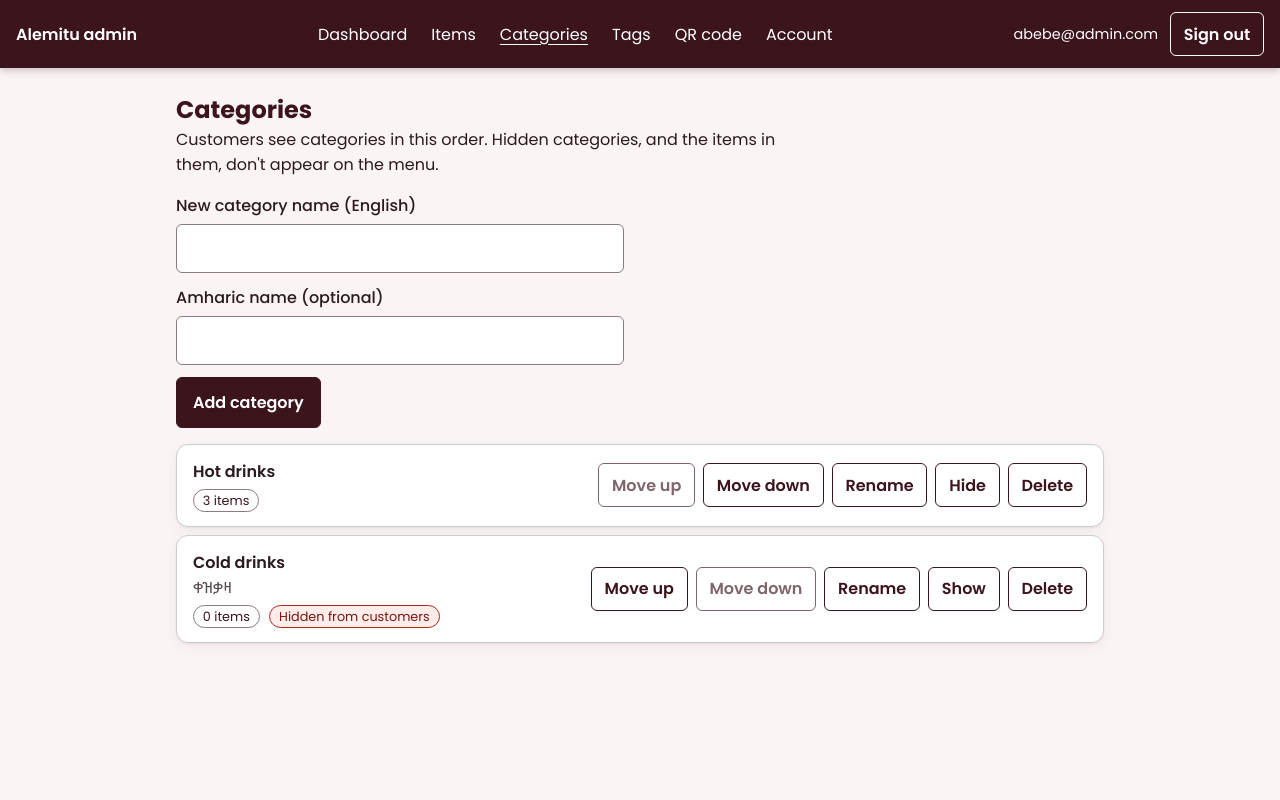
Test: admin categories page › renames a category
Step 1. Click the button with aria-label "Rename: Hot drinks" → (880, 485), box [832, 463, 927, 507]
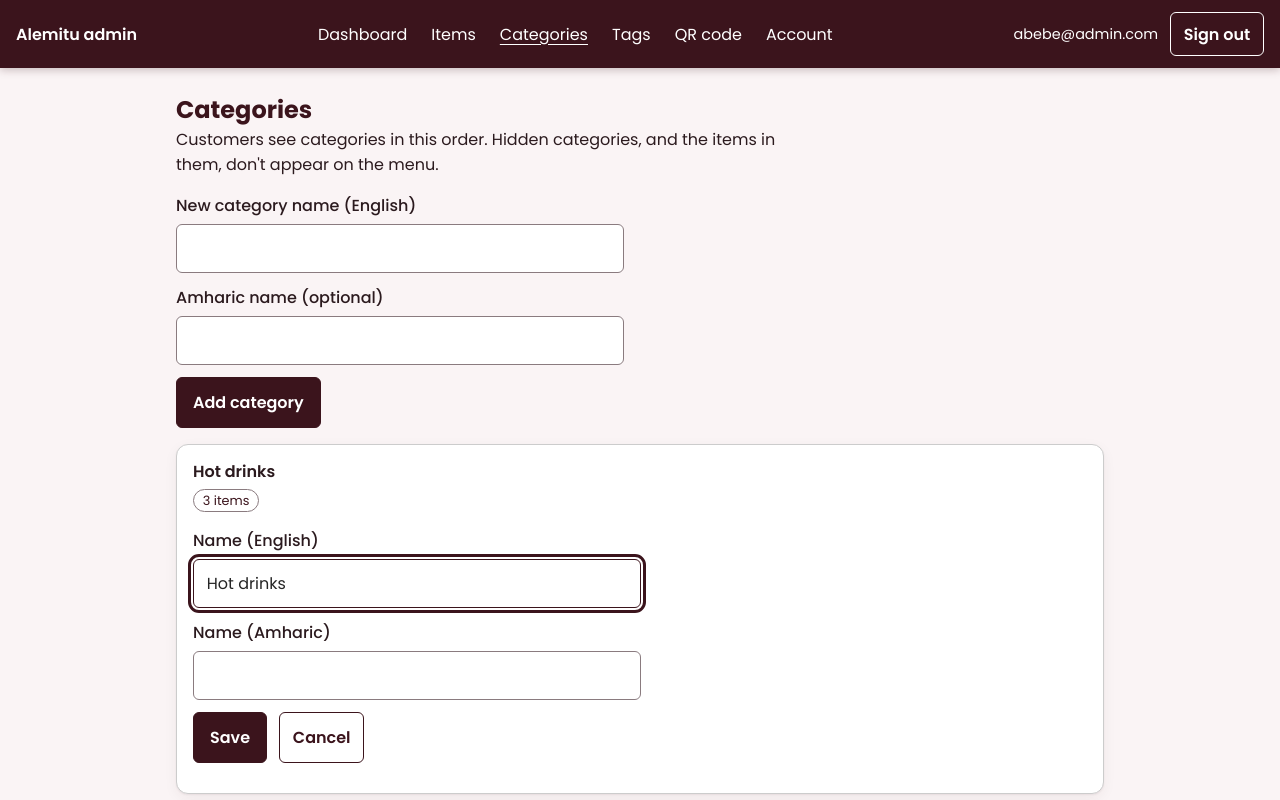
Step 2. Replace the text in the field labelled "Name (English)" with "Coffee" → (417, 584), box [193, 559, 641, 608]
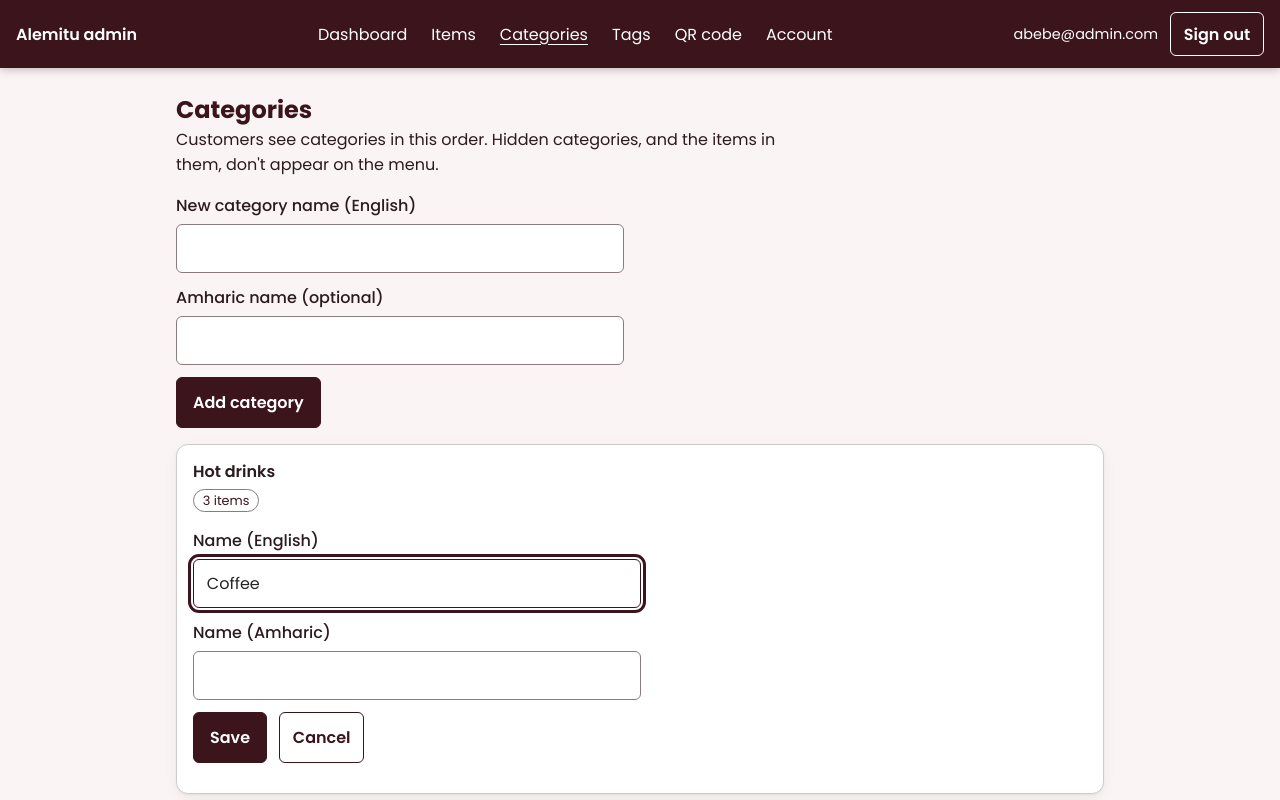
Step 3. Click the button "Save" → (230, 738), box [193, 712, 267, 763]
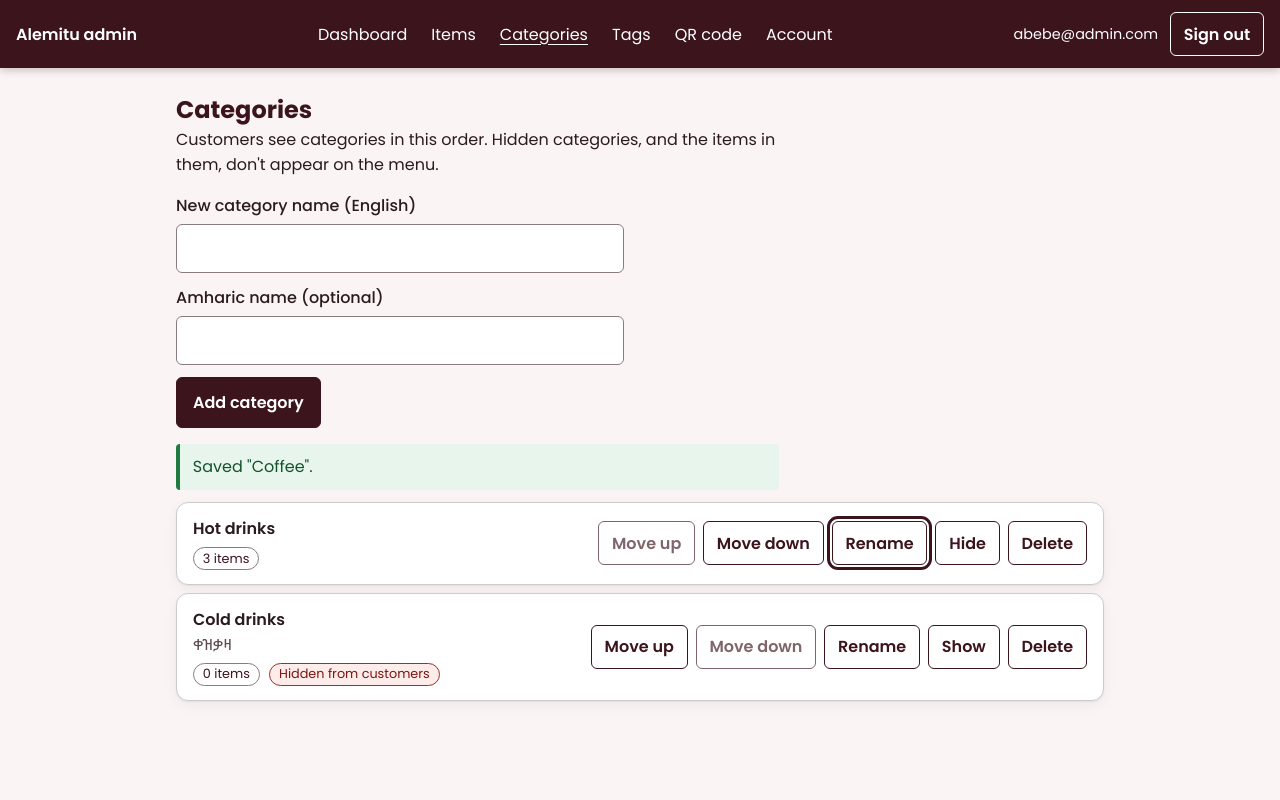
expect the text "Saved \"Coffee\"." is shown: met, box [176, 444, 779, 490]
